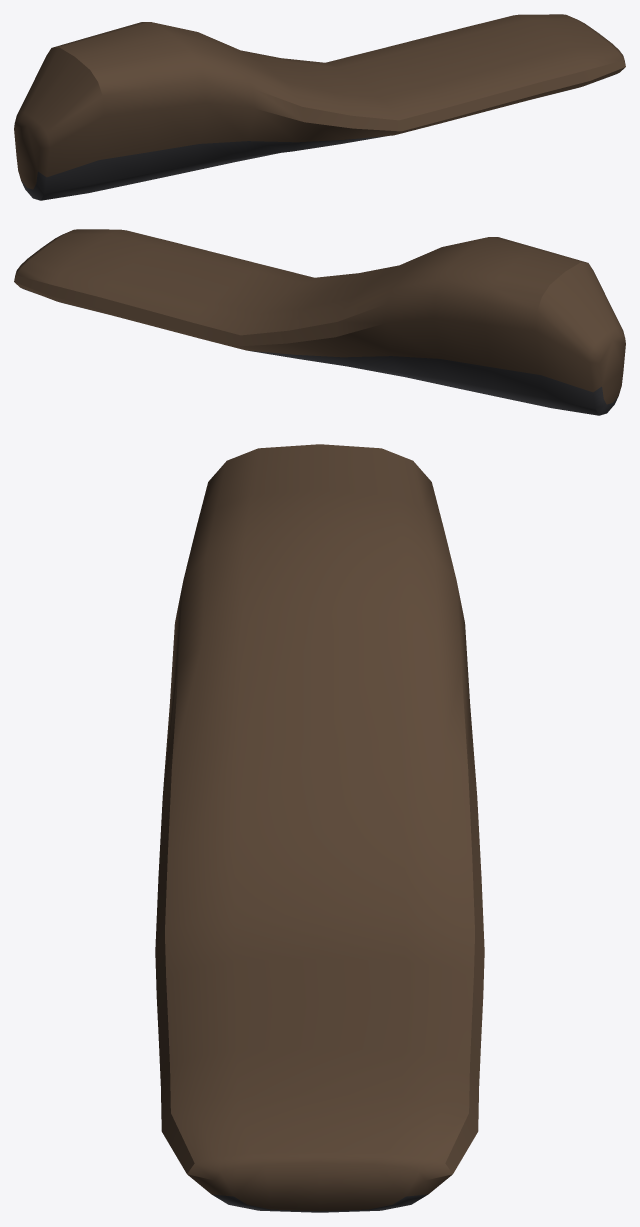
Rendered from hump_long_lod1.glb.
3 renders of one model, top to bottom at view 1: azimuth 30°, elevation 25°; view 2: azimuth 150°, elevation 25°; view 3: azimuth 270°, elevation 25°, orthographic. The views are drawn at different scales.
Parts seen in each view (by area): view 1: hump_long_lod1; view 2: hump_long_lod1; view 3: hump_long_lod1.
Boxes of the visible parts, x1,y1,x2,y2 form: hump_long_lod1: (14,14,625,200); hump_long_lod1: (14,229,625,415); hump_long_lod1: (155,444,484,1212).
Size of the model in its own units: 1 by 0.22 by 0.2497.
